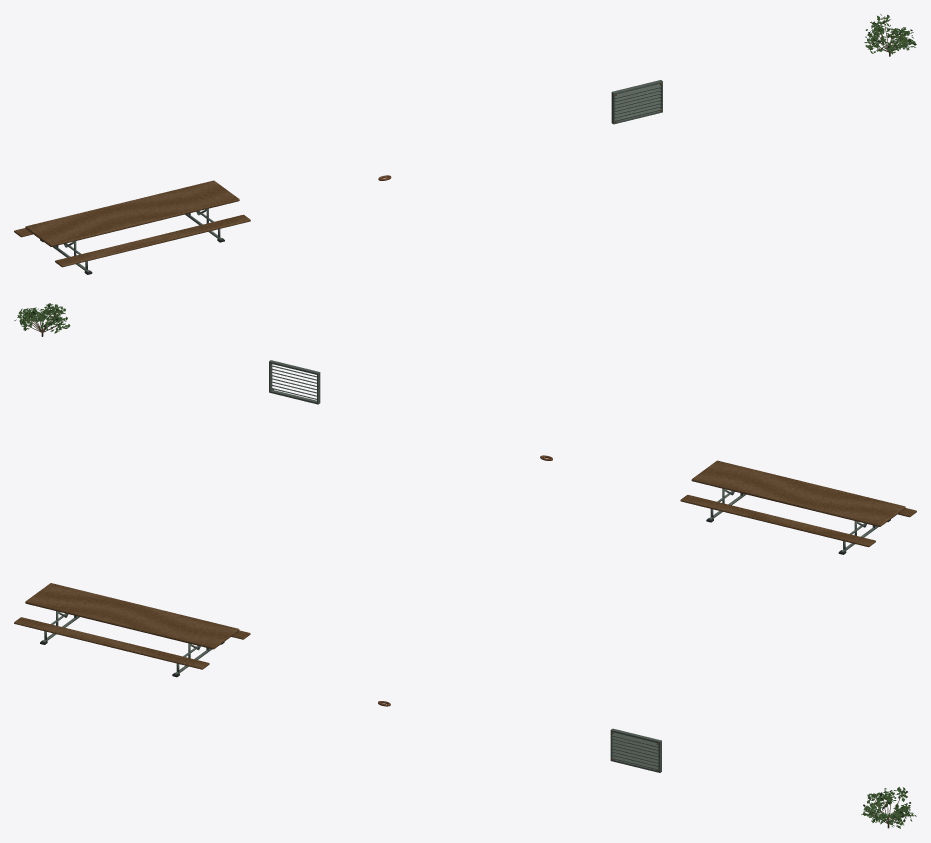
File: RepresentativeBatch.fbx
The picture shows the model from 3 angles, top to bottom: view 1: azimuth 30°, elevation 25°; view 2: azimuth 150°, elevation 25°; view 3: azimuth 330°, elevation 25°; orthographic projection.
Parts seen in each view (by area): view 1: DiningBenchSet_Batch, VentGrille_Batch, LeafyShrub_Batch; view 2: DiningBenchSet_Batch, VentGrille_Batch, LeafyShrub_Batch; view 3: DiningBenchSet_Batch, VentGrille_Batch, LeafyShrub_Batch.
Boxes of the visible parts, x1,y1,x2,y2 form: DiningBenchSet_Batch: (14, 180, 250, 274); VentGrille_Batch: (611, 80, 662, 124); LeafyShrub_Batch: (864, 14, 916, 56); DiningBenchSet_Batch: (680, 460, 916, 554); VentGrille_Batch: (269, 360, 320, 404); LeafyShrub_Batch: (14, 303, 70, 336); DiningBenchSet_Batch: (14, 583, 250, 677); VentGrille_Batch: (610, 728, 661, 772); LeafyShrub_Batch: (861, 787, 916, 828).
Bounding box in the file's own units: 3109 × 114 × 298.
Materials: 1 (1 with a texture image).
